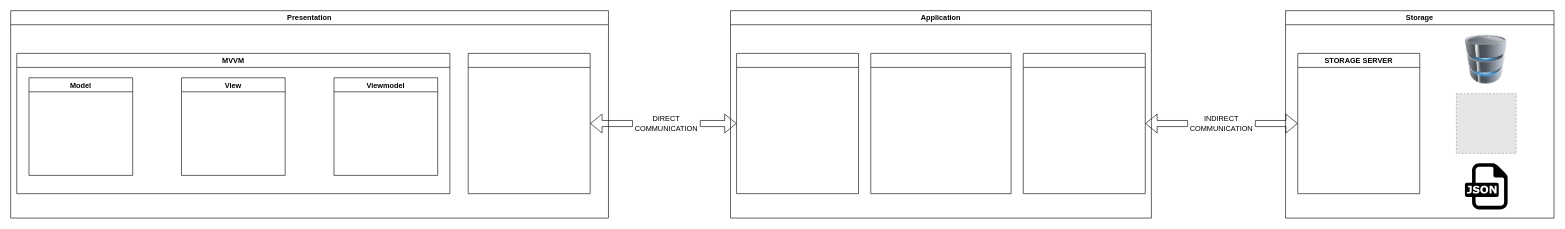
This 1565x229 diagram has some shape labels left out. Grey dashed boxes stand in for pictures. Here are the shapes that lost their labels. From the top down, the centre of each, then its label:
the point at 529,123: CLIENT
the point at 797,123: SERVER
the point at 940,123: BUSINESS LOGIC
the point at 1084,123: STORAGE CLIENT
